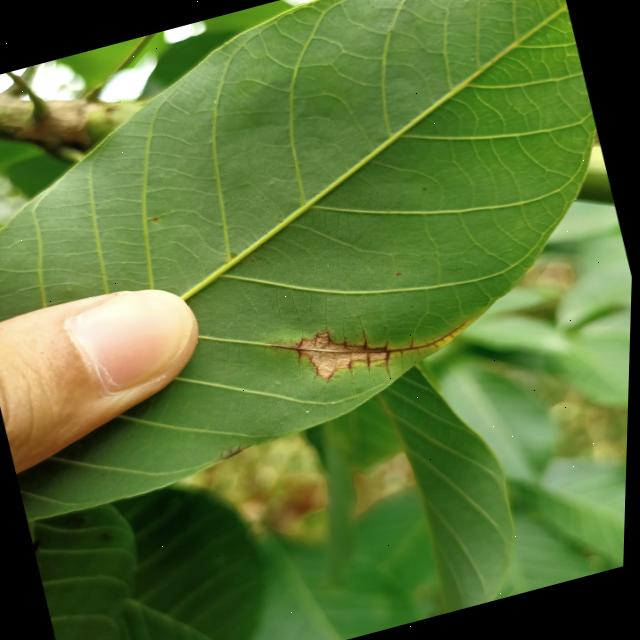Colletotrichum: (397, 272, 404, 276)
Corynespora: (272, 292, 482, 404)
Leaf-Blight: (299, 324, 373, 382)
